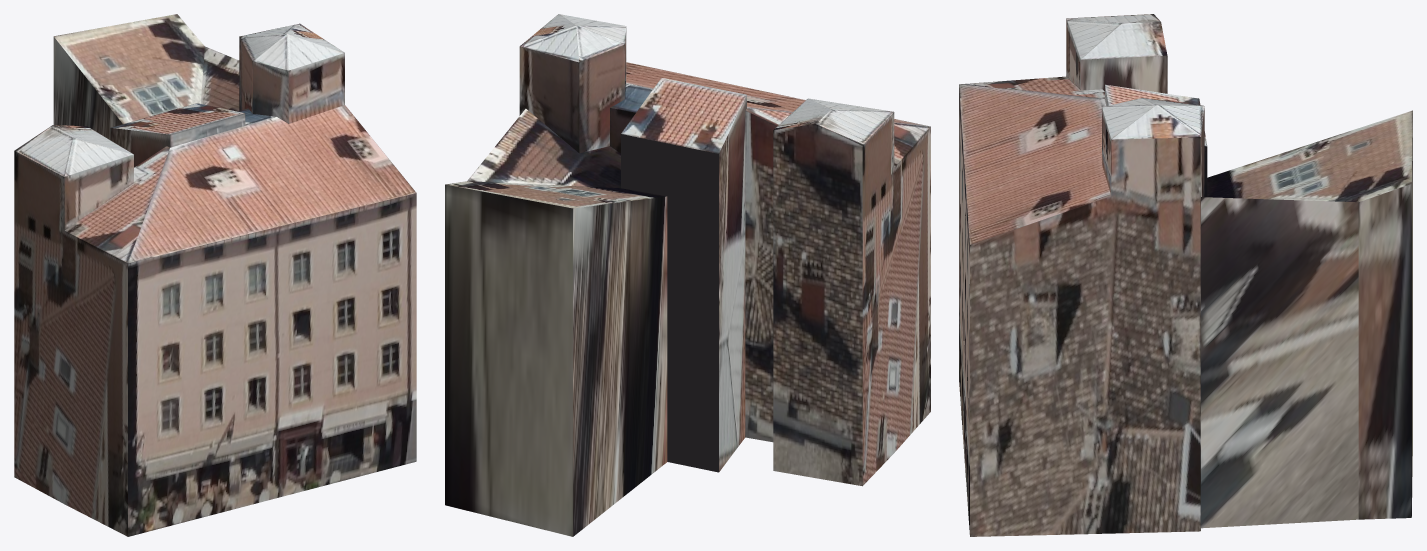
3 renders of one model, left to right at view 1: azimuth 30°, elevation 25°; view 2: azimuth 150°, elevation 25°; view 3: azimuth 270°, elevation 25°, orthographic. The views are drawn at different scales.
Visible parts, largest first — view 1: Z_UP; view 2: Z_UP; view 3: Z_UP.
Part boxes in pixels (x1,y1,x2,y2): Z_UP: (14, 14, 416, 536); Z_UP: (445, 14, 930, 536); Z_UP: (959, 14, 1412, 536).
Bounding box in the file's own units: 19.73 × 22.32 × 22.48.
Materials: 2 (1 with a texture image).
